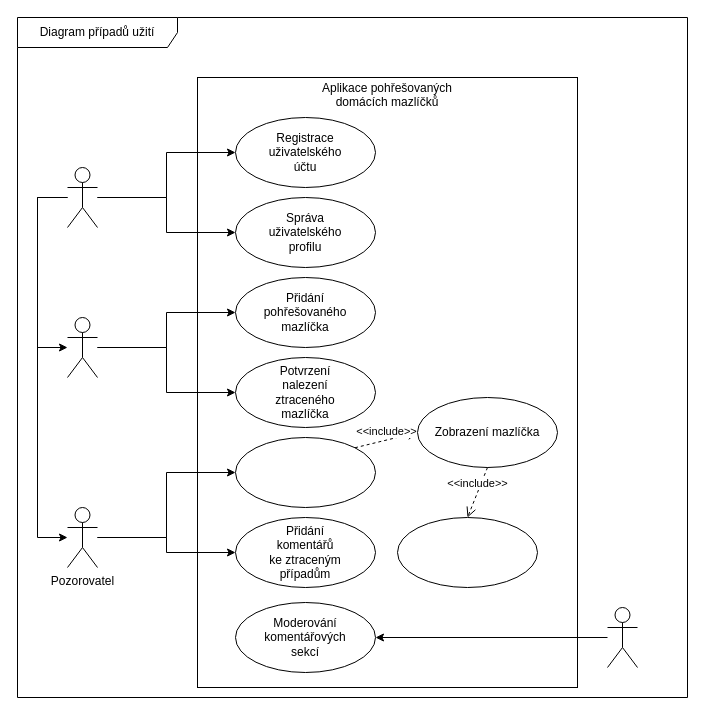
This 705x715 diagram has some shape labels left out. Here are the shapes that lost their labels. From the top down, the centre of each, then its label:
point 82,197: Uživatel
point 82,347: Majitel pohřešovaného mazlíčka
point 305,472: Zobrazení seznamu pohřešovaných mazlíčků
point 467,552: Zobrazení místa v AR
point 622,637: Moderátor
